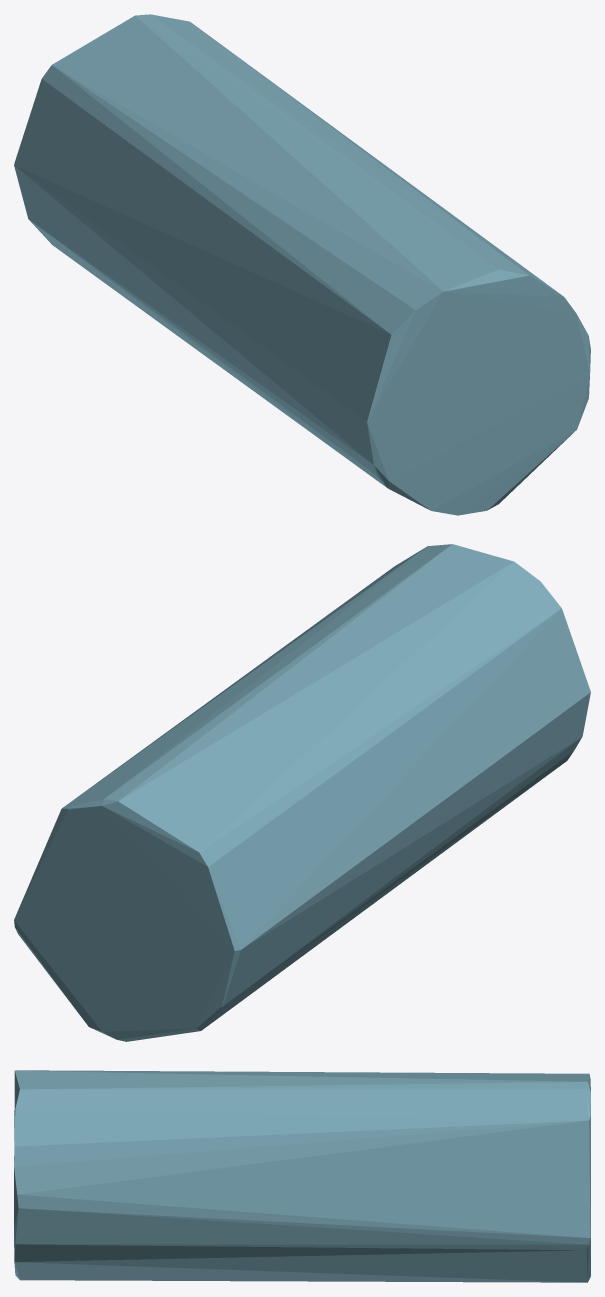
Rendered from cleaning_abrasivePowder_a01.glb.
3 views of the same model, one above another, from view 1: azimuth 30°, elevation 25°; view 2: azimuth 150°, elevation 25°; view 3: azimuth 270°, elevation 25° (orthographic). The views are drawn at different scales.
Parts seen in each view (by area): view 1: geometry_0; view 2: geometry_0; view 3: geometry_0.
Boxes of the visible parts, box(x1,y1,x2,y2) form: geometry_0: box(14, 14, 590, 515); geometry_0: box(14, 544, 590, 1041); geometry_0: box(14, 1070, 590, 1282).
Bounding box in the file's own units: 0.1781 × 0.1786 × 0.48.
